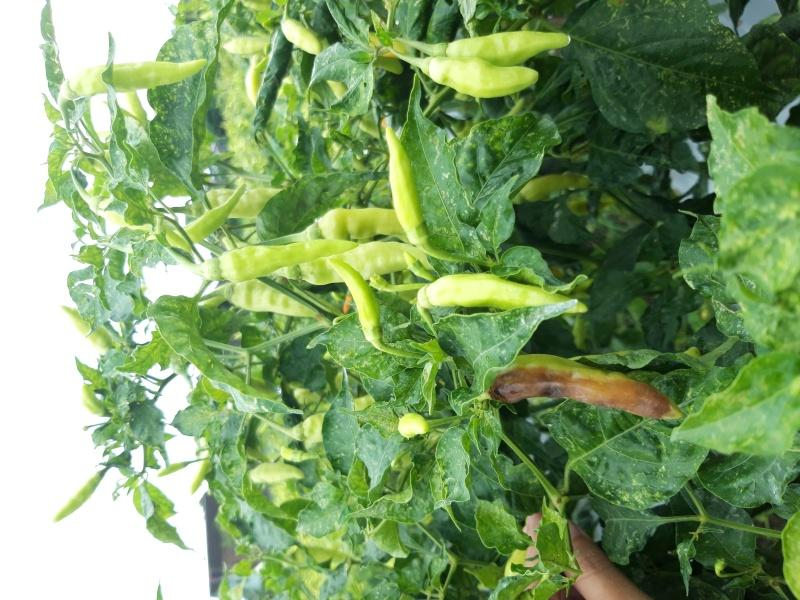cabai_normal: (216, 238, 357, 286), (425, 271, 582, 313), (157, 183, 250, 248), (64, 57, 204, 99), (301, 243, 438, 279), (424, 56, 540, 96), (323, 204, 425, 248), (379, 131, 423, 228), (220, 278, 322, 318), (445, 30, 571, 62), (334, 263, 381, 330), (50, 476, 99, 522), (286, 19, 319, 55)
lalat_buah: (489, 353, 683, 423)
